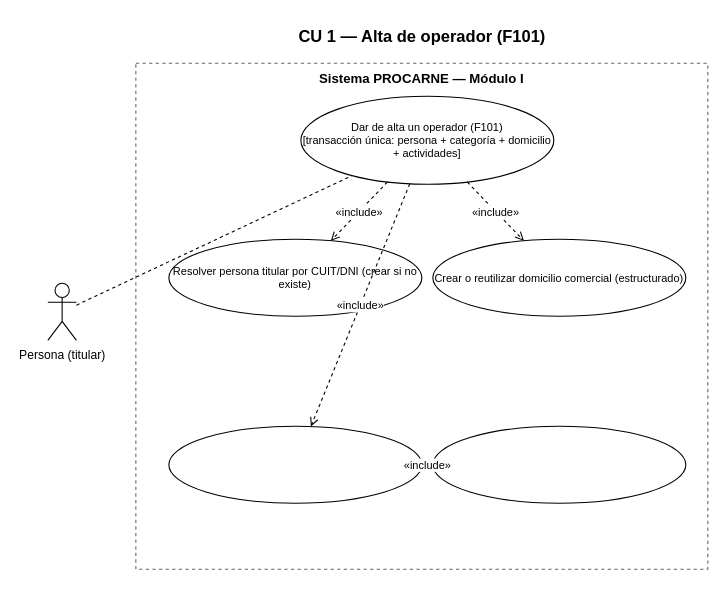
Image size: 727x589. Some labels were removed from this diagram. The shapes that lost their labels are listed below. From the top down, each one's centre as x and y in pixels, then its label:
At (x=295, y=464): "Asignar actividades económicas (N:M, por id o código DGR/AFIP)".
At (x=559, y=464): "Consultar catálogo de actividades (filtrar por jerarquía)".
